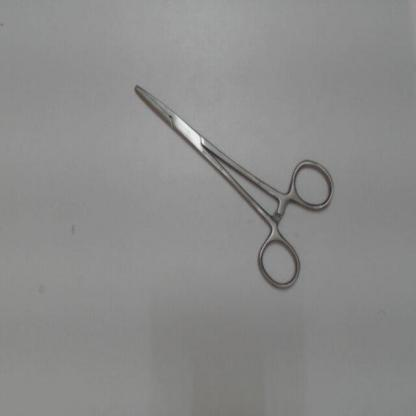Mayo Needle Holder: (117, 67, 342, 299)
